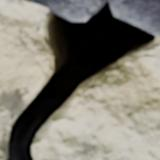broken_brick: (110, 0, 159, 36), (19, 0, 106, 20)
crack: (2, 0, 158, 159)
